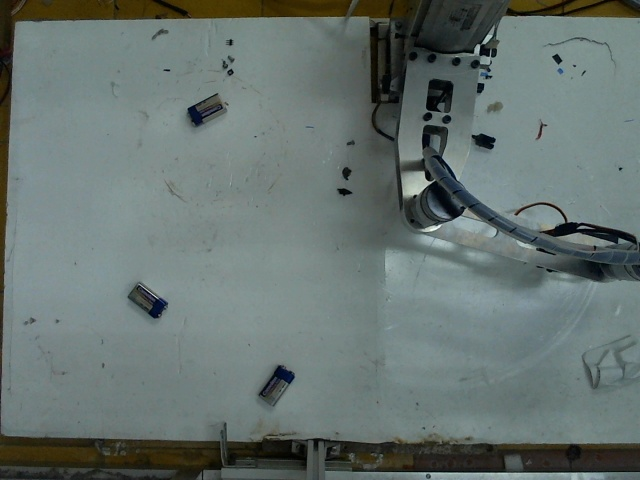battery: (125, 279, 167, 322), (257, 361, 293, 407), (185, 92, 224, 124)
